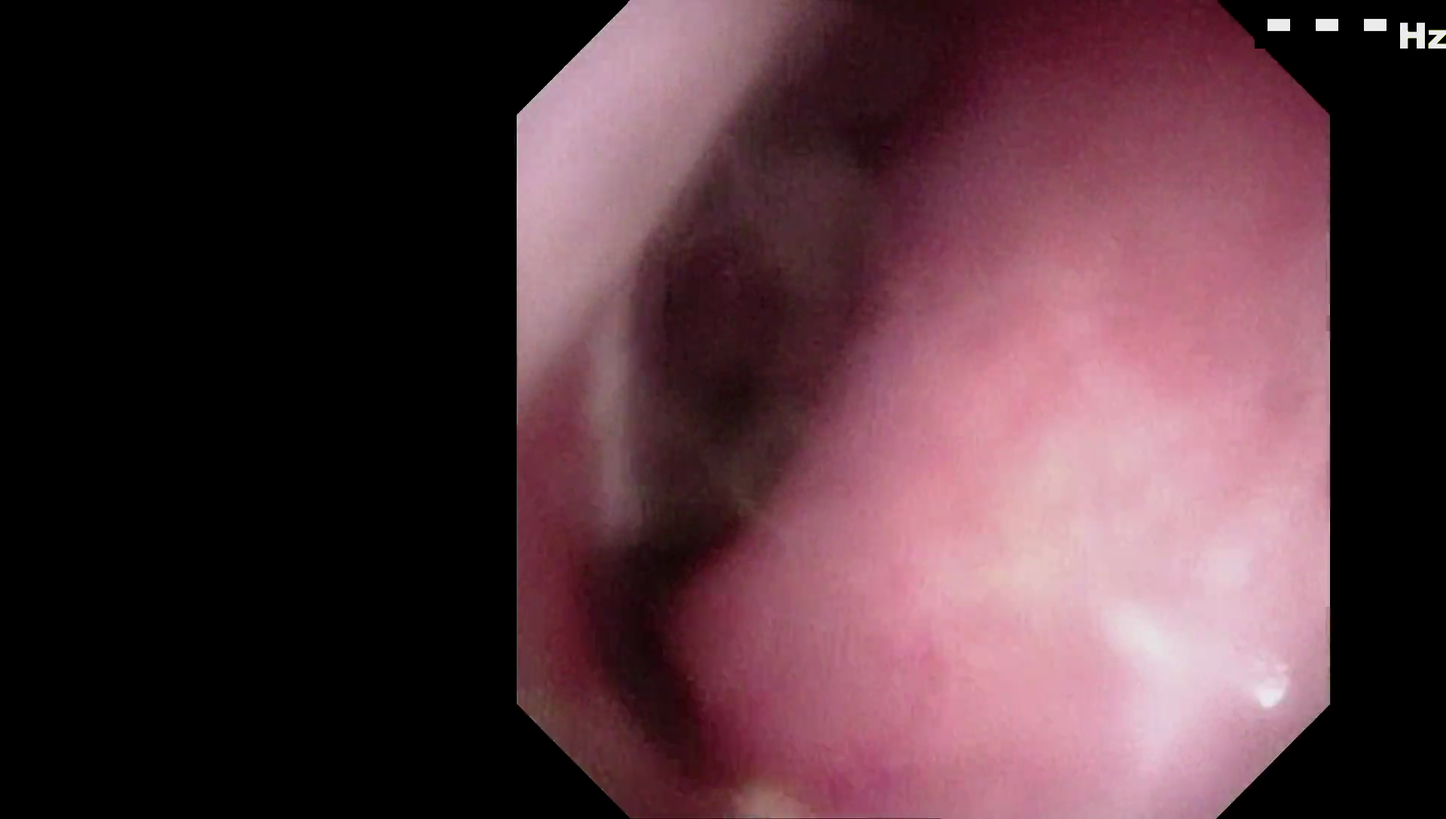close_wall: (889, 366, 1287, 751)
next: (548, 471, 764, 738)
